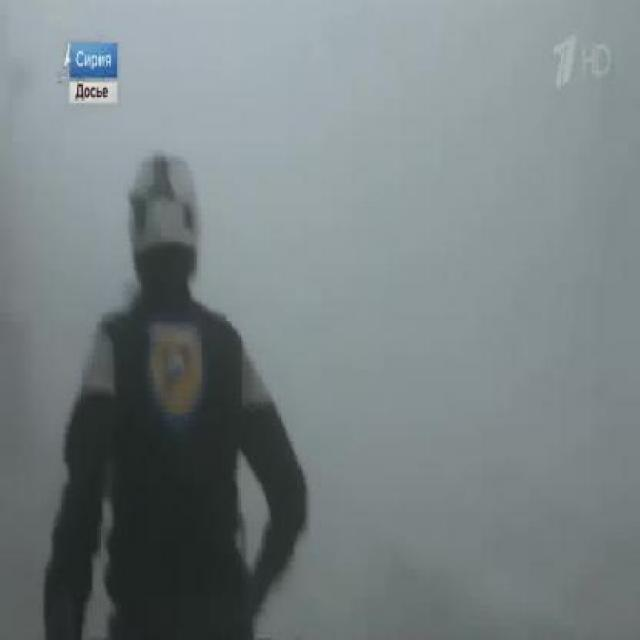Helmet: (127, 143, 201, 254)
